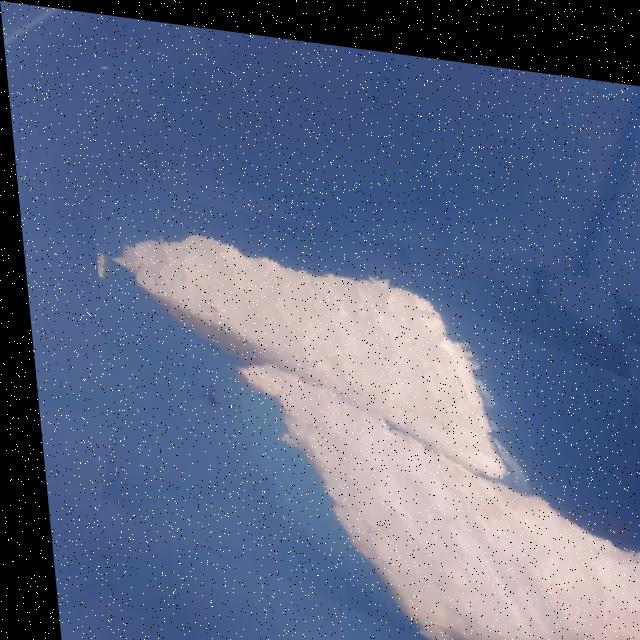litter: (86, 179, 640, 640), (234, 363, 640, 640), (106, 191, 527, 438)
